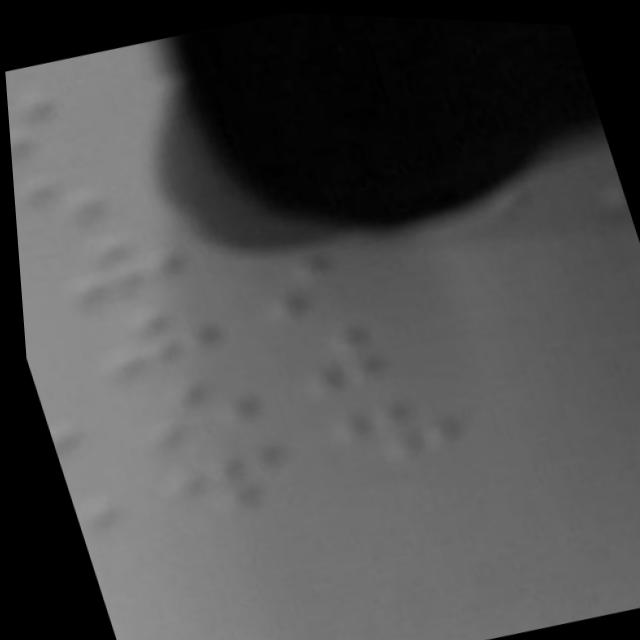braiile: (98, 350, 269, 466), (235, 218, 402, 332), (271, 301, 438, 409), (298, 371, 466, 478), (69, 282, 234, 390), (34, 205, 192, 317), (141, 428, 299, 533), (8, 141, 152, 242), (4, 68, 129, 170)
